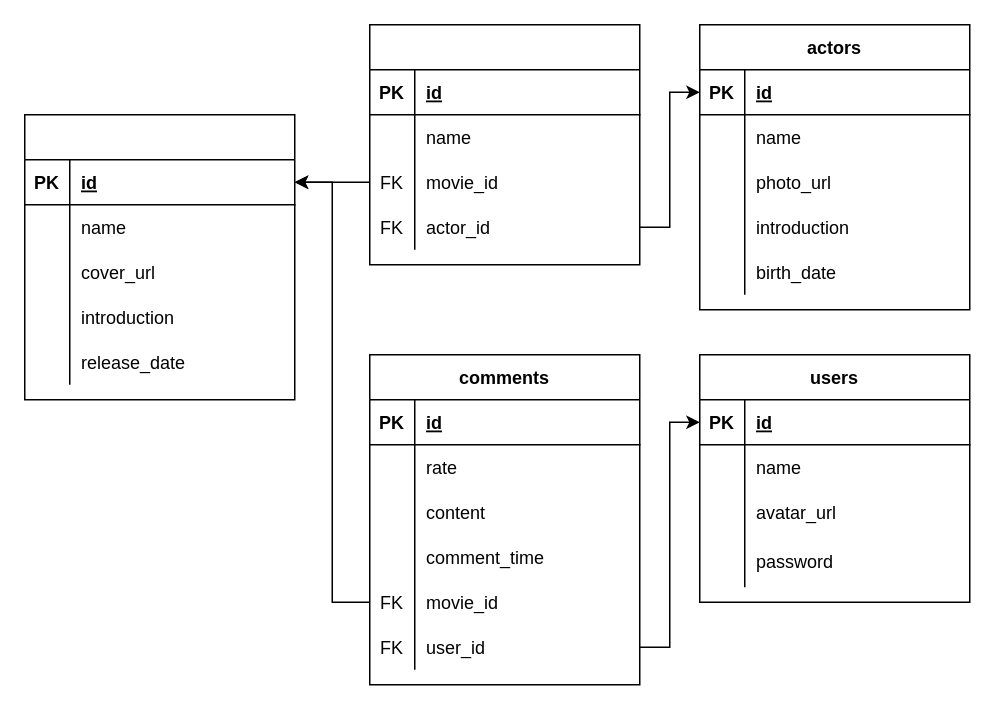
The diagram is 995 pixels wide and 710 high, and some of its shapes have lost their labels. Each missing label, with the box of its shape:
characters: (368, 23, 640, 265)
movies: (23, 113, 295, 400)
